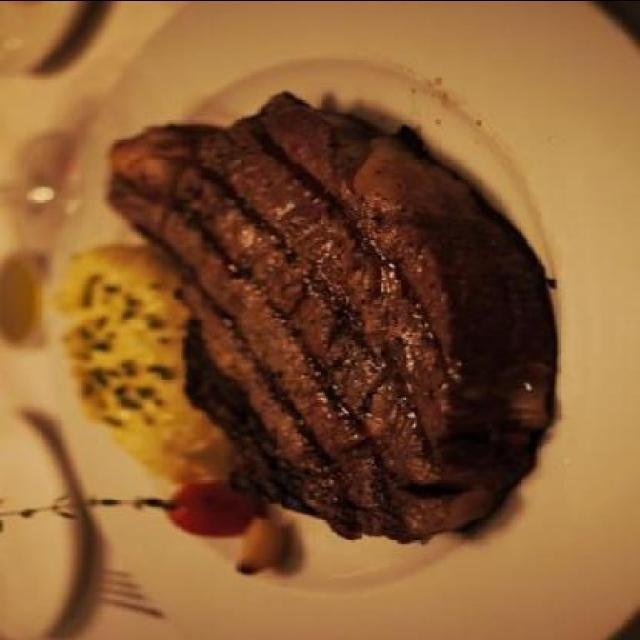Steak: (172, 90, 556, 528)
